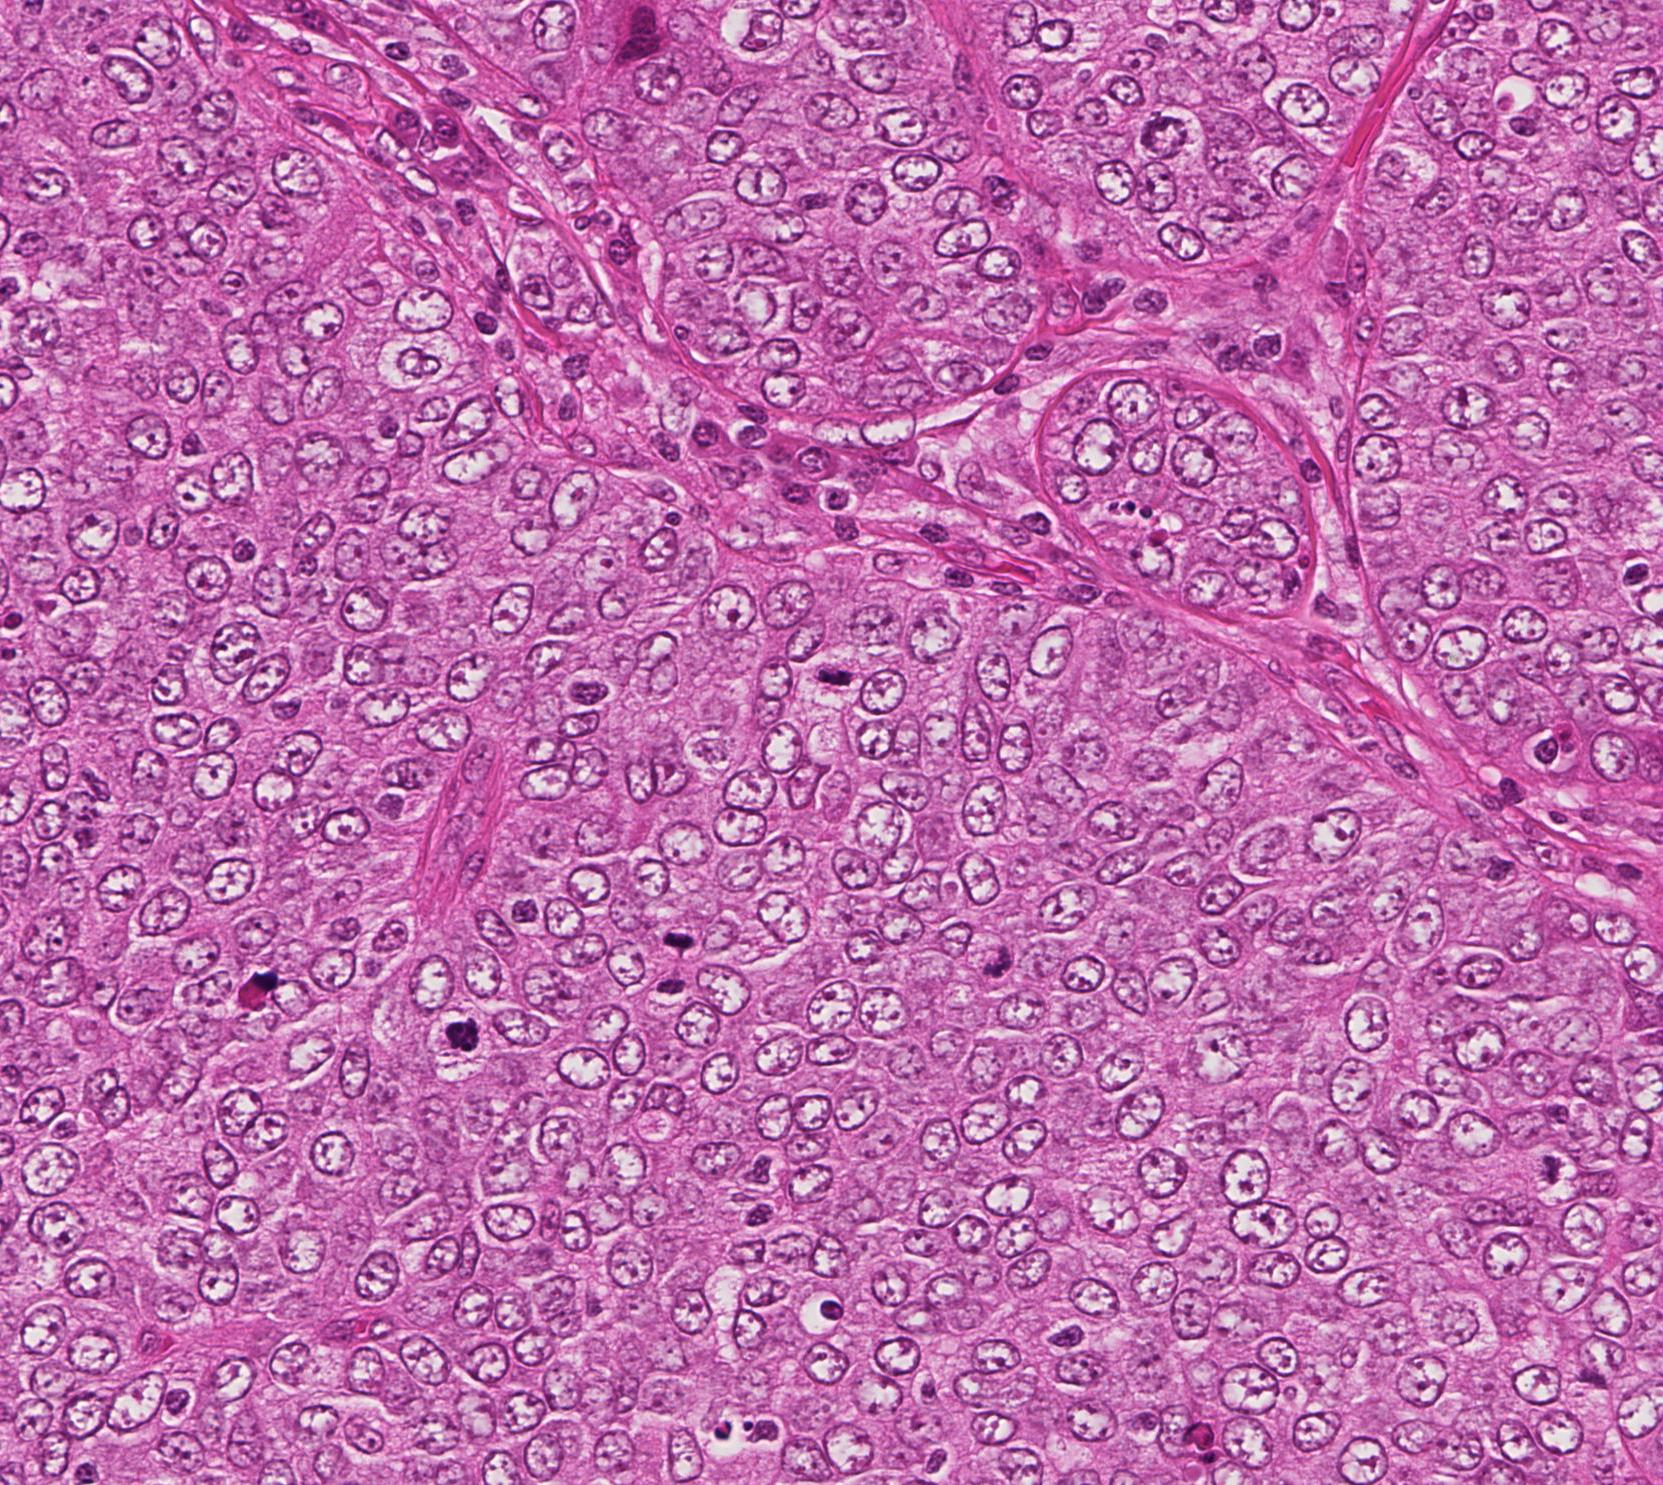mitosis: (804, 648, 864, 708), (434, 1005, 495, 1065), (1511, 1137, 1571, 1195), (647, 936, 705, 996), (972, 935, 1032, 993)
